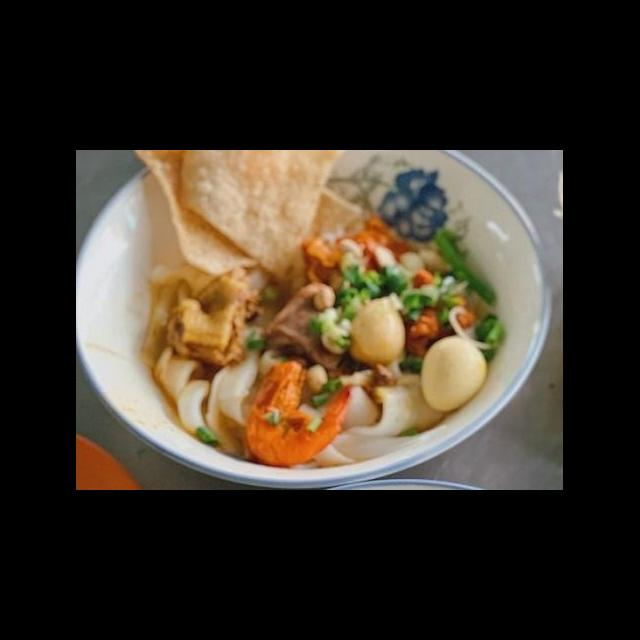banh da: (134, 151, 366, 282), (176, 151, 352, 286)
mi: (290, 369, 442, 470), (152, 342, 286, 449)
thit ga: (162, 261, 264, 371)
tom: (243, 356, 354, 469)
trung: (416, 334, 491, 414), (344, 292, 408, 366)
